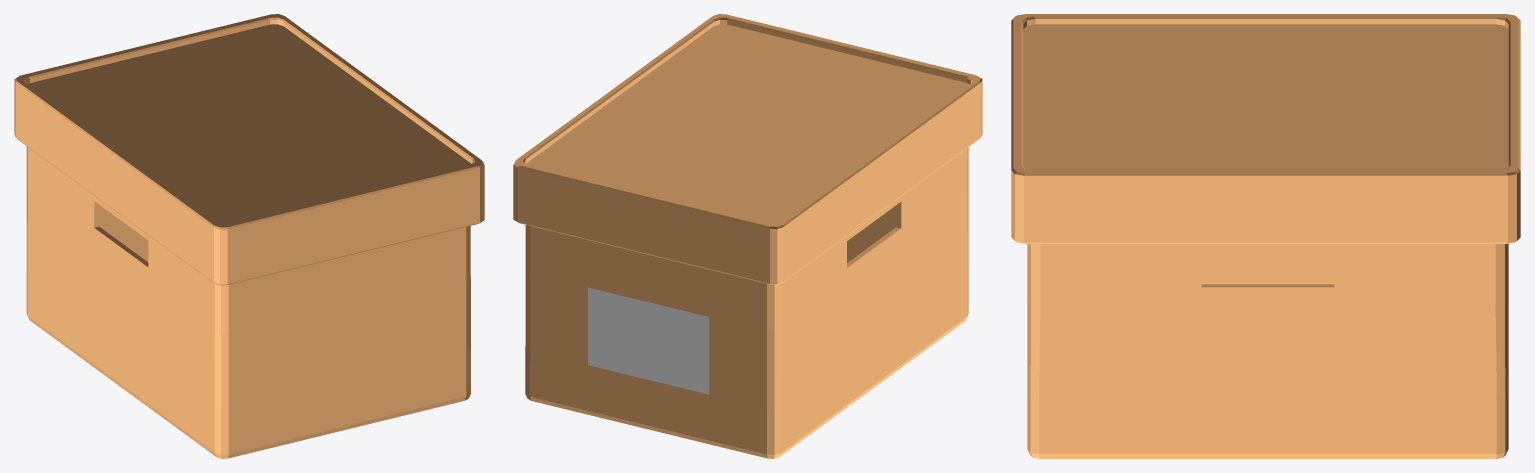
Rendered from Storage Box 2.fbx.
The picture shows the model from 3 angles, left to right: view 1: azimuth 30°, elevation 25°; view 2: azimuth 150°, elevation 25°; view 3: azimuth 270°, elevation 25°; orthographic projection. The views are drawn at different scales.
Visible parts, largest first — view 1: Node 1, Node 0; view 2: Node 1, Node 0; view 3: Node 1, Node 0.
Boxes of the visible parts, bbox=[...] form: Node 1: bbox=[14, 14, 484, 285]; Node 0: bbox=[26, 146, 470, 458]; Node 1: bbox=[513, 14, 982, 284]; Node 0: bbox=[525, 147, 968, 458]; Node 1: bbox=[1011, 14, 1520, 243]; Node 0: bbox=[1027, 243, 1508, 458].
Bounding box in the file's own units: 0.6472 × 0.4111 × 0.4826.
